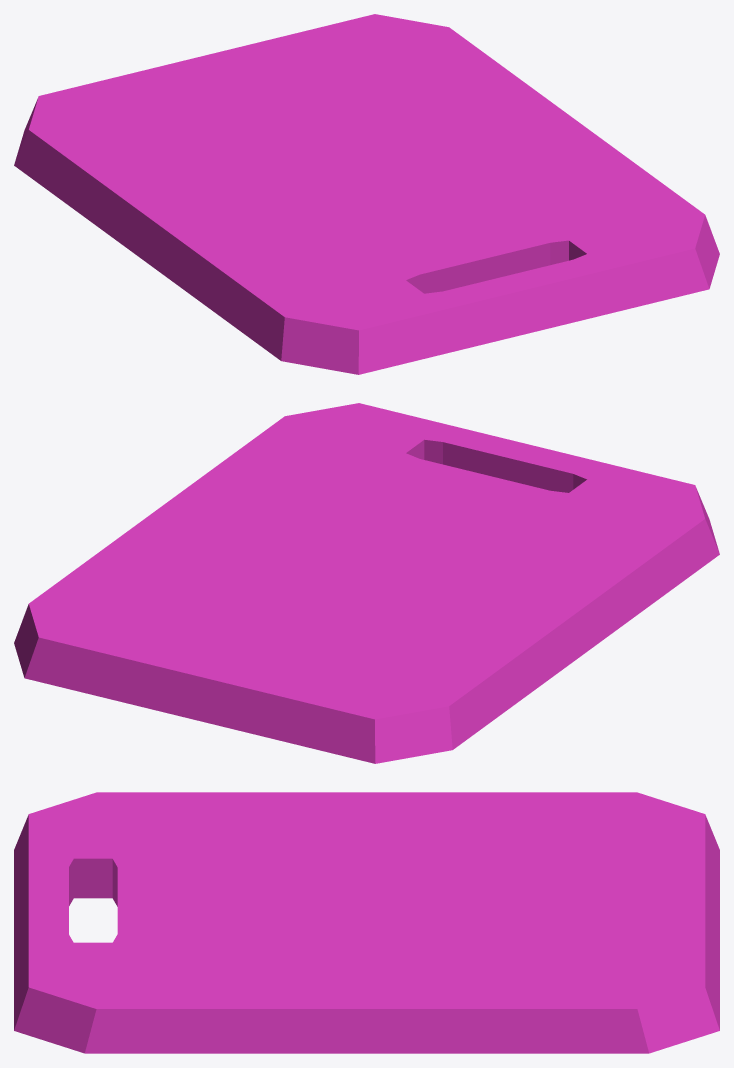
File: cutting board.fbx
3 views of the same model, one above another, from view 1: azimuth 30°, elevation 25°; view 2: azimuth 150°, elevation 25°; view 3: azimuth 270°, elevation 25° (orthographic). The views are drawn at different scales.
Parts seen in each view (by area): view 1: Cube; view 2: Cube; view 3: Cube.
Part boxes in pixels (x1,y1,x2,y2): Cube: (14, 14, 719, 374); Cube: (14, 403, 719, 763); Cube: (14, 792, 719, 1053).
Size of the model in its own units: 200 by 16.38 by 264.
